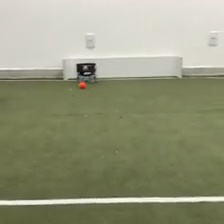ball: (78, 80, 87, 89)
goal: (60, 53, 185, 81)
robot: (75, 61, 98, 83)
